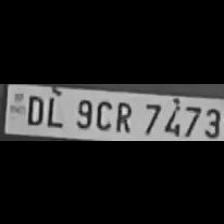3: (200, 103, 222, 137)
4: (160, 100, 182, 134)
7: (137, 100, 159, 134), (181, 102, 199, 136)
9: (70, 94, 93, 128)
C: (93, 96, 113, 130)
D: (23, 92, 43, 125)
L: (44, 92, 64, 126)
R: (113, 97, 134, 132)
